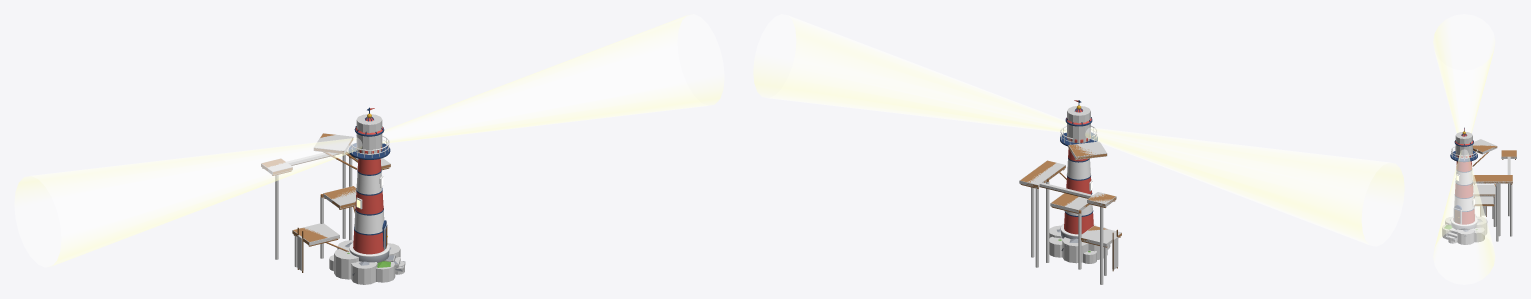
File: farol.glb
3 renders of one model, left to right at view 1: azimuth 30°, elevation 25°; view 2: azimuth 150°, elevation 25°; view 3: azimuth 270°, elevation 25°, orthographic. The views are drawn at different scales.
Visible parts, largest first — view 1: facho, farol, subida, col-cil-lanterna-farol-1, col-cil-pedra-farol-4, col-cil-pedra-farol-5, col-deque-subida-5, col-deque-subida-1; view 2: facho, farol, subida, col-cil-lanterna-farol-1, col-cil-pedra-farol-3, col-deque-subida-1, col-deque-subida-3, col-deque-subida-5; view 3: facho, farol, subida, col-cil-lanterna-farol-1, col-deque-subida-2, col-cil-pedra-farol-1, col-cil-poste-subida-5, col-deque-subida-5, col-deque-subida-1, col-cil-poste-subida-3, col-cil-poste-subida-4, col-cil-pedra-farol-2 (+6 smaller).
Boxes of the visible parts, x1=… form: facho: x1=14, y1=14, x2=724, y2=267; farol: x1=345, y1=107, x2=404, y2=275; subida: x1=261, y1=133, x2=390, y2=272; col-cil-lanterna-farol-1: x1=356, y1=114, x2=382, y2=154; col-cil-pedra-farol-4: x1=334, y1=247, x2=358, y2=279; col-cil-pedra-farol-5: x1=351, y1=261, x2=377, y2=284; col-deque-subida-5: x1=314, y1=133, x2=353, y2=153; col-deque-subida-1: x1=292, y1=223, x2=339, y2=245; facho: x1=753, y1=14, x2=1404, y2=246; farol: x1=1057, y1=100, x2=1097, y2=252; subida: x1=1020, y1=144, x2=1121, y2=271; col-cil-lanterna-farol-1: x1=1067, y1=106, x2=1090, y2=143; col-cil-pedra-farol-3: x1=1062, y1=237, x2=1088, y2=263; col-deque-subida-1: x1=1081, y1=225, x2=1121, y2=246; col-deque-subida-3: x1=1019, y1=160, x2=1065, y2=187; col-deque-subida-5: x1=1068, y1=141, x2=1107, y2=159; facho: x1=1433, y1=14, x2=1494, y2=284; farol: x1=1444, y1=127, x2=1486, y2=239; subida: x1=1470, y1=145, x2=1516, y2=216; col-cil-lanterna-farol-1: x1=1455, y1=132, x2=1472, y2=157; col-deque-subida-2: x1=1473, y1=184, x2=1495, y2=196; col-cil-pedra-farol-1: x1=1456, y1=228, x2=1474, y2=244; col-cil-poste-subida-5: x1=1496, y1=183, x2=1498, y2=241; col-deque-subida-5: x1=1473, y1=139, x2=1496, y2=154; col-deque-subida-1: x1=1475, y1=196, x2=1493, y2=206; col-cil-poste-subida-3: x1=1498, y1=183, x2=1500, y2=236; col-cil-poste-subida-4: x1=1510, y1=183, x2=1512, y2=236; col-cil-pedra-farol-2: x1=1474, y1=227, x2=1484, y2=242.
Size of the model in its own units: 52 by 12.9 by 8.6.
